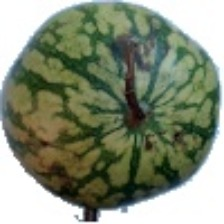watermelon: (39, 24, 178, 171)
